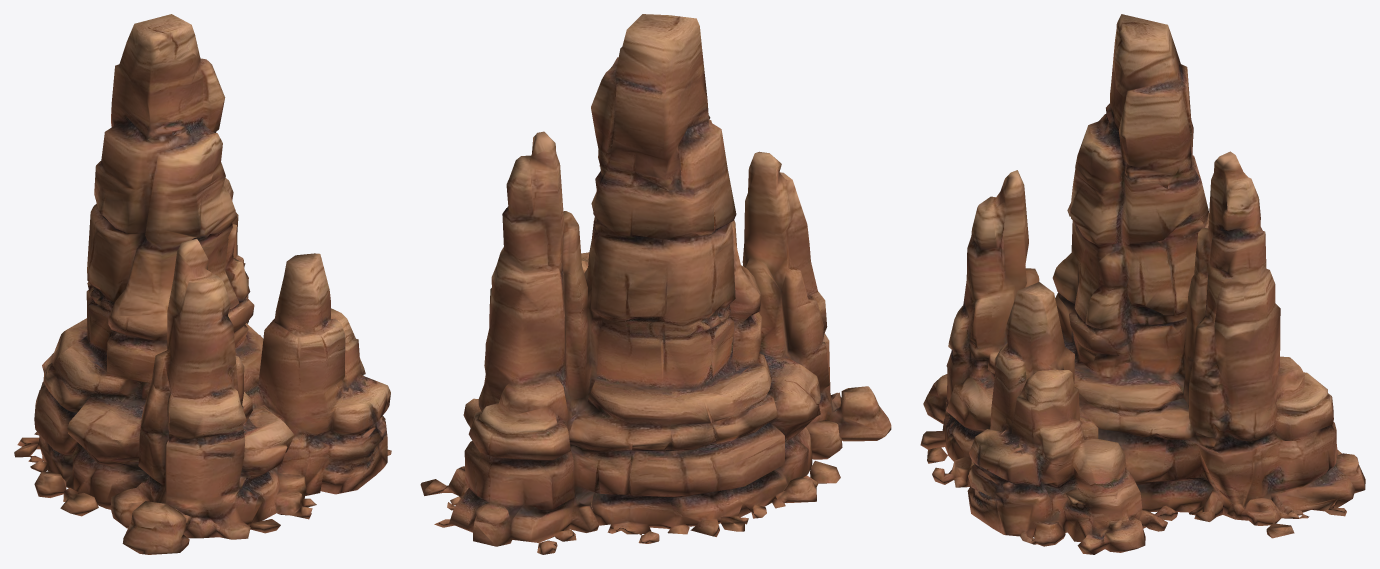
Rendered from rock_spire.glb.
3 renders of one model, left to right at view 1: azimuth 30°, elevation 25°; view 2: azimuth 150°, elevation 25°; view 3: azimuth 270°, elevation 25°, orthographic. The views are drawn at different scales.
Visible parts, largest first — view 1: tripo_node_9a77ae56-79ac-4f89-af11-1bde6b56f635; view 2: tripo_node_9a77ae56-79ac-4f89-af11-1bde6b56f635; view 3: tripo_node_9a77ae56-79ac-4f89-af11-1bde6b56f635.
Part boxes in pixels (x1,y1,x2,y2): tripo_node_9a77ae56-79ac-4f89-af11-1bde6b56f635: (14, 14, 391, 554); tripo_node_9a77ae56-79ac-4f89-af11-1bde6b56f635: (420, 14, 891, 554); tripo_node_9a77ae56-79ac-4f89-af11-1bde6b56f635: (920, 14, 1365, 554).
Bounding box in the file's own units: 2.78 × 3.46 × 3.2.
1 material, 1 textured.
